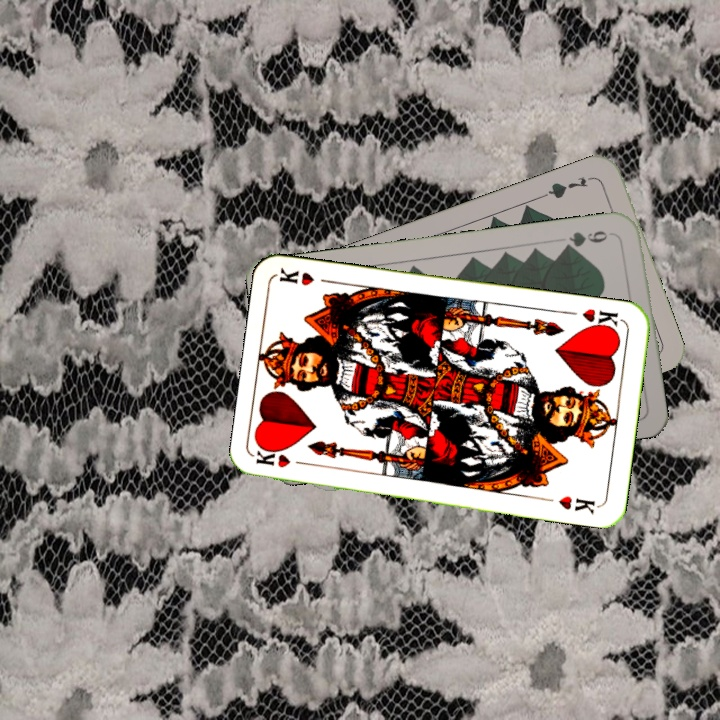G7: (539, 172, 596, 201)
G9: (559, 226, 617, 253)
HK: (253, 446, 313, 471), (578, 304, 625, 334)
